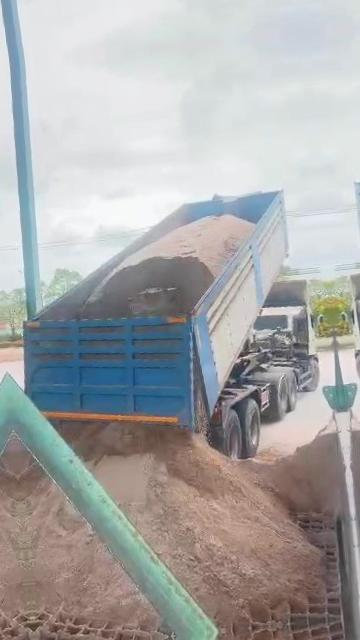sand: (55, 363, 317, 624), (12, 428, 158, 630), (78, 215, 254, 318), (257, 429, 343, 516)
